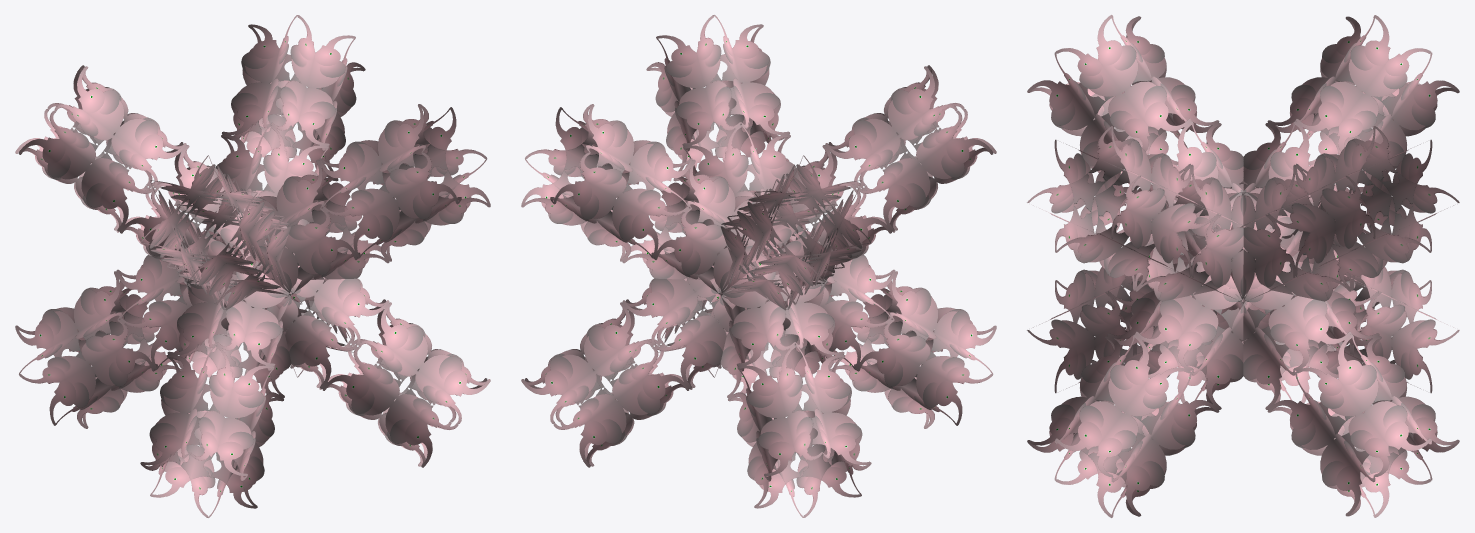
The model's file is StarHexahemioctacron21.gltf.
The picture shows the model from 3 angles, left to right: view 1: azimuth 30°, elevation 25°; view 2: azimuth 150°, elevation 25°; view 3: azimuth 270°, elevation 25°; orthographic projection. The views are drawn at different scales.
Parts seen in each view (by area): view 1: StarHexahemioctacron; view 2: StarHexahemioctacron; view 3: StarHexahemioctacron.
Part boxes in pixels (x1,y1,x2,y2): StarHexahemioctacron: (15, 15, 490, 517); StarHexahemioctacron: (521, 15, 996, 517); StarHexahemioctacron: (1027, 15, 1459, 517).
Bounding box in the file's own units: 6.25 × 6.25 × 6.25.
Materials: 1 (1 with a texture image).
